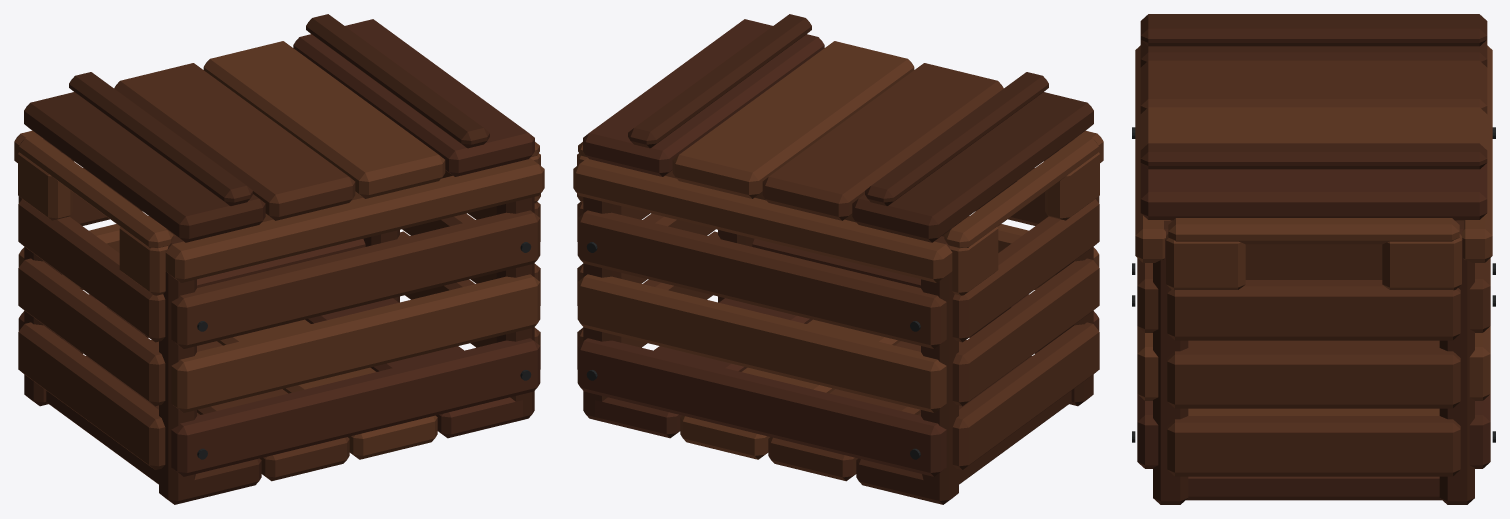
File: ClosedCellarCrate.glb
3 views of the same model, side by side, from view 1: azimuth 30°, elevation 25°; view 2: azimuth 150°, elevation 25°; view 3: azimuth 270°, elevation 25° (orthographic). The views are drawn at different scales.
Parts seen in each view (by area): view 1: LongSidePlank.008, LongSidePlank.006, LongSidePlank.010, LidPlank.002, LidPlank.001, LongTopRail.002, LidPlank, LidPlank.003, EndPlank.006, EndPlank.008, EndPlank.010, LidBatten (+16 smaller); view 2: LongSidePlank.009, LongSidePlank.007, LongSidePlank.011, LidPlank.002, LidPlank.001, LongTopRail.003, LidPlank, LidPlank.003, EndPlank.006, EndPlank.008, EndPlank.010, LidBatten (+16 smaller); view 3: EndPlank.007, EndPlank.009, LidPlank.003, LidPlank.001, EndPlank.011, LidPlank.002, LidBatten, LidBatten.001, LidPlank, HandleBridge.003, FloorPlank.007, EndPlank.006 (+14 smaller).
Boxes of the visible parts, bbox=[...] form: LongSidePlank.008: bbox=[171, 274, 540, 412]; LongSidePlank.006: bbox=[171, 338, 540, 476]; LongSidePlank.010: bbox=[171, 210, 540, 348]; LidPlank.002: bbox=[203, 41, 445, 198]; LidPlank.001: bbox=[114, 63, 355, 220]; LongTopRail.002: bbox=[165, 158, 544, 282]; LidPlank: bbox=[24, 92, 265, 242]; LidPlank.003: bbox=[293, 19, 534, 176]; EndPlank.006: bbox=[18, 322, 165, 469]; EndPlank.008: bbox=[18, 258, 165, 406]; EndPlank.010: bbox=[18, 199, 165, 342]; LidBatten: bbox=[69, 72, 252, 205]; LongSidePlank.009: bbox=[577, 274, 946, 412]; LongSidePlank.007: bbox=[577, 338, 946, 476]; LongSidePlank.011: bbox=[577, 210, 946, 348]; LidPlank.002: bbox=[672, 41, 914, 198]; LidPlank.001: bbox=[762, 63, 1003, 220]; LongTopRail.003: bbox=[573, 158, 952, 282]; LidPlank: bbox=[852, 92, 1093, 242]; LidPlank.003: bbox=[583, 19, 824, 176]; EndPlank.006: bbox=[952, 322, 1099, 469]; EndPlank.008: bbox=[952, 258, 1099, 406]; EndPlank.010: bbox=[952, 199, 1099, 342]; LidBatten: bbox=[865, 72, 1048, 205]; EndPlank.007: bbox=[1167, 416, 1460, 476]; EndPlank.009: bbox=[1167, 348, 1460, 408]; LidPlank.003: bbox=[1140, 163, 1487, 219]; LidPlank.001: bbox=[1140, 60, 1487, 113]; EndPlank.011: bbox=[1167, 280, 1460, 340]; LidPlank.002: bbox=[1140, 107, 1487, 149]; LidBatten: bbox=[1140, 20, 1487, 46]; LidBatten.001: bbox=[1140, 143, 1487, 169]; LidPlank: bbox=[1140, 14, 1487, 67]; HandleBridge.003: bbox=[1168, 218, 1459, 244]; FloorPlank.007: bbox=[1186, 476, 1441, 500]; EndPlank.006: bbox=[1245, 244, 1382, 279].
Bounding box in the file's own units: 2.18 × 1.64 × 1.65.
